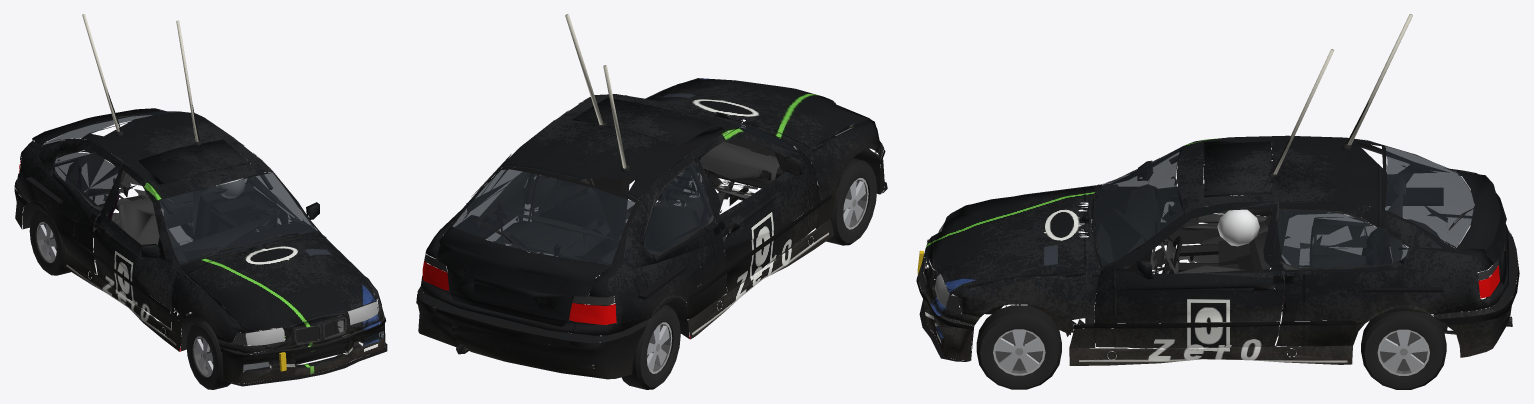
The picture shows the model from 3 angles, left to right: view 1: azimuth 30°, elevation 25°; view 2: azimuth 150°, elevation 25°; view 3: azimuth 270°, elevation 25°; orthographic projection. The views are drawn at different scales.
Visible parts, largest first — view 1: body, wheel_fr, wheel_rr; view 2: body, wheel_fr, wheel_rr; view 3: body, wheel_fl, wheel_rl.
Boxes of the visible parts, left/top/right/bottom form: body: left=14, top=14, right=387, bottom=386; wheel_fr: left=186, top=320, right=230, bottom=389; wheel_rr: left=29, top=208, right=74, bottom=275; body: left=416, top=14, right=887, bottom=379; wheel_fr: left=816, top=158, right=877, bottom=245; wheel_rr: left=621, top=304, right=680, bottom=389; body: left=916, top=14, right=1519, bottom=365; wheel_fl: left=976, top=305, right=1061, bottom=389; wheel_rl: left=1361, top=311, right=1446, bottom=389.
Size of the model in its own units: 1.78 by 2.38 by 4.24.
Materials: 2 (1 with a texture image).
